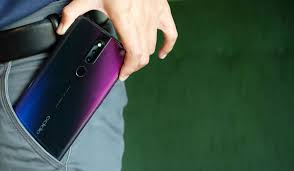oppo: (9, 12, 132, 159)
